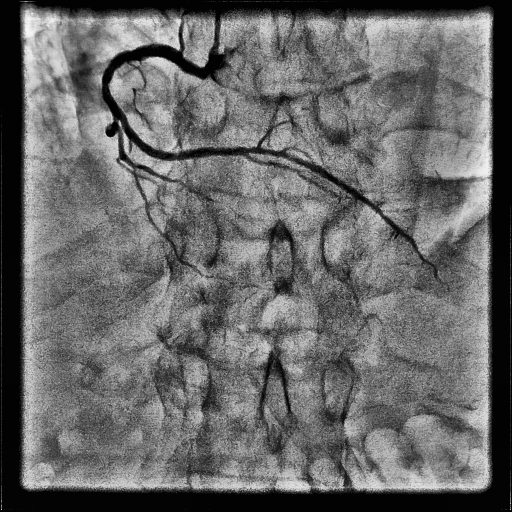pborca: (239, 147, 425, 261)
rca: (101, 44, 241, 161)
